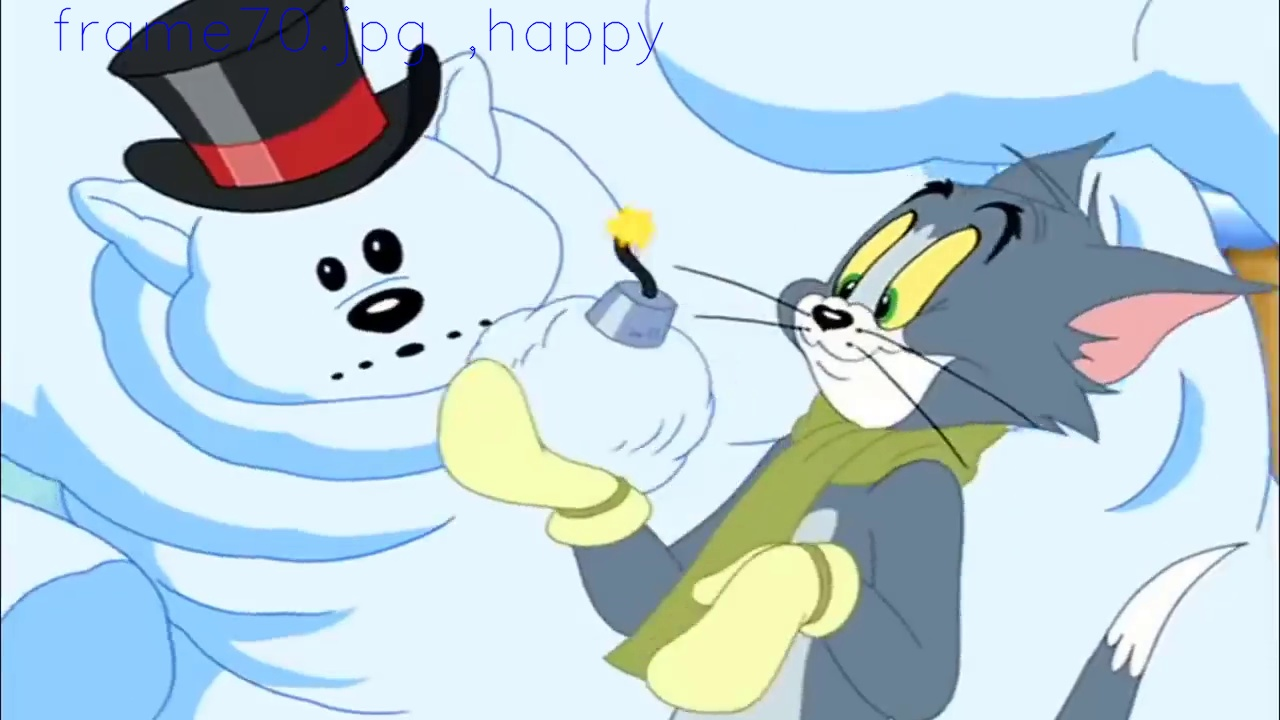happy: (796, 181, 1039, 408)
